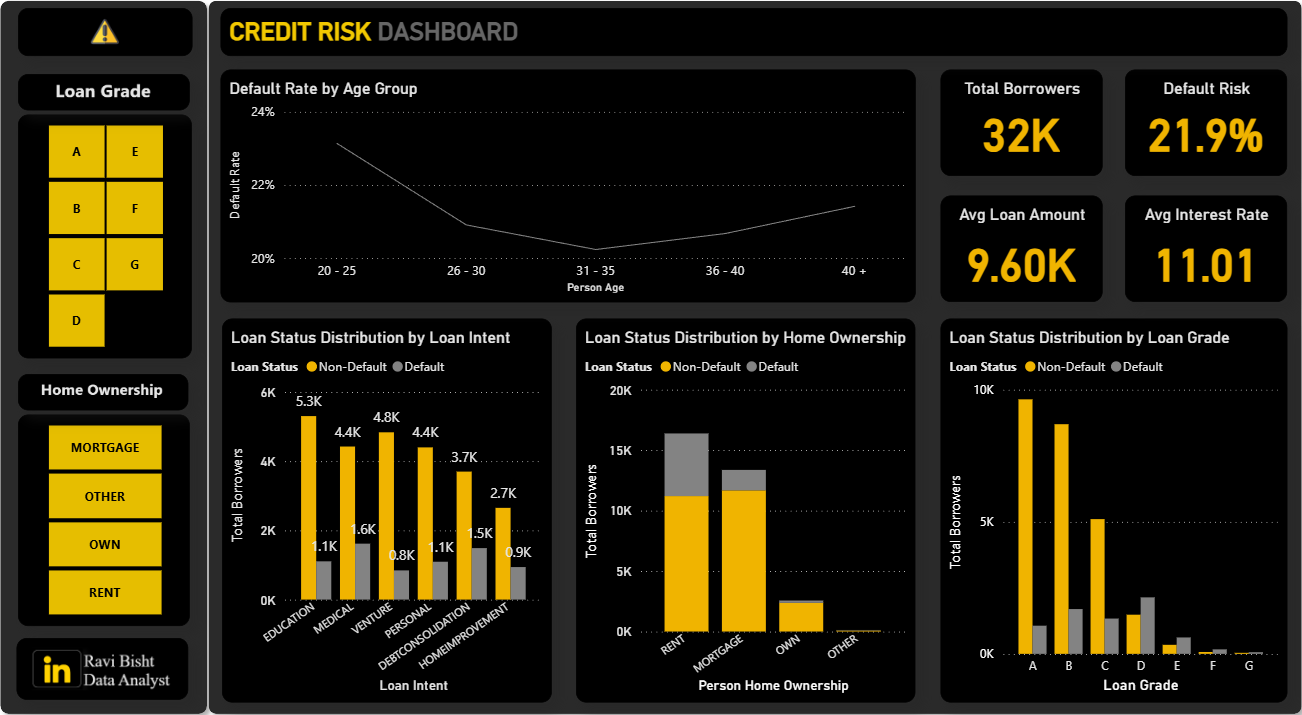

Layout of this report page (visuals, bound fields, positions):
{"tool":"powerbi","page":{"name":"Credit_Risk","canvas":[1280,720],"ordinal":0},"visuals":[{"type":"shape","box":[0,0,1280.8,720.6],"z":0},{"type":"shape","box":[0,5,218.7,710],"z":1000},{"type":"image","box":[26.2,20.4,169.1,46.7],"z":2000},{"type":"shape","box":[202.4,5,1078.4,710],"z":3000},{"type":"clusteredColumnChart","fields":{"Category":["Credit_Risk.loan_grade"],"Series":["Credit_Risk.Loan Status Label"],"Y":["Credit_Risk_DAX.Total Borrowers"]},"box":[921.3,322.2,336.8,372.4],"z":4000},{"type":"columnChart","fields":{"Series":["Credit_Risk.Loan Status Label"],"Y":["Credit_Risk_DAX.Total Borrowers"],"Category":["Credit_Risk.person_home_ownership"]},"box":[568,322.2,329,372.4],"z":5000},{"type":"slicer","title":"Loan Grade","fields":{"Values":["Credit_Risk.loan_grade"]},"box":[25.9,123.1,168.4,236.4],"z":6000},{"type":"slicer","title":"Home Ownership","fields":{"Values":["Credit_Risk.person_home_ownership"]},"box":[25.9,414.5,166.8,205.6],"z":7000},{"type":"cardVisual","fields":{"Data":["Credit_Risk_DAX.Default Risk"]},"box":[1100.7,80.2,157.4,103.5],"z":8000},{"type":"cardVisual","fields":{"Data":["Credit_Risk_DAX.Total Borrowers"]},"box":[921.4,80.2,157.4,103.5],"z":9000},{"type":"cardVisual","fields":{"Data":["Credit_Risk_DAX.Avg Interest Rate"]},"box":[1100.7,202.6,157.4,103.5],"z":10000},{"type":"cardVisual","fields":{"Data":["Credit_Risk_DAX.Avg Loan Amount"]},"box":[921.4,202.3,157.2,103.3],"z":11000},{"type":"clusteredColumnChart","fields":{"Y":["Credit_Risk_DAX.Total Borrowers"],"Category":["Credit_Risk.loan_intent"],"Series":["Credit_Risk.Loan Status Label"]},"box":[223.5,322.2,320,372.4],"z":12000},{"type":"image","box":[24.3,631,166.8,60],"z":13000},{"type":"image","box":[25.9,375.7,165.2,35.6],"z":14000},{"type":"image","box":[25.9,84.2,166.8,35.6],"z":15000},{"type":"textbox","box":[223.1,20.4,1035.1,46.7],"z":16000},{"type":"lineChart","fields":{"Category":["Credit_Risk.person_age (groups)"],"Y":["Credit_Risk_DAX.Default Rate"]},"box":[223.1,80,675,226],"z":17000}]}

Visuals, with their boxes in screenshot pixels (x1, y1, x2, y2), scaled from the page's 1280x720 canvas onto the 1302x715 screenshot:
shape: region(0, 0, 1301, 714)
shape: region(0, 5, 222, 710)
image: region(27, 20, 199, 67)
shape: region(206, 5, 1301, 710)
clusteredColumnChart - Credit_Risk.loan_grade x Credit_Risk.Loan Status Label: region(937, 320, 1280, 690)
columnChart - Credit_Risk.Loan Status Label x Credit_Risk_DAX.Total Borrowers: region(578, 320, 912, 690)
"Loan Grade" slicer: region(26, 122, 198, 357)
"Home Ownership" slicer: region(26, 412, 196, 616)
cardVisual - Credit_Risk_DAX.Default Risk: region(1120, 80, 1280, 182)
cardVisual - Credit_Risk_DAX.Total Borrowers: region(937, 80, 1097, 182)
cardVisual - Credit_Risk_DAX.Avg Interest Rate: region(1120, 201, 1280, 304)
cardVisual - Credit_Risk_DAX.Avg Loan Amount: region(937, 201, 1097, 303)
clusteredColumnChart - Credit_Risk_DAX.Total Borrowers x Credit_Risk.loan_intent: region(227, 320, 553, 690)
image: region(25, 627, 194, 686)
image: region(26, 373, 194, 408)
image: region(26, 84, 196, 119)
textbox: region(227, 20, 1280, 67)
lineChart - Credit_Risk.person_age (groups) x Credit_Risk_DAX.Default Rate: region(227, 79, 914, 304)
